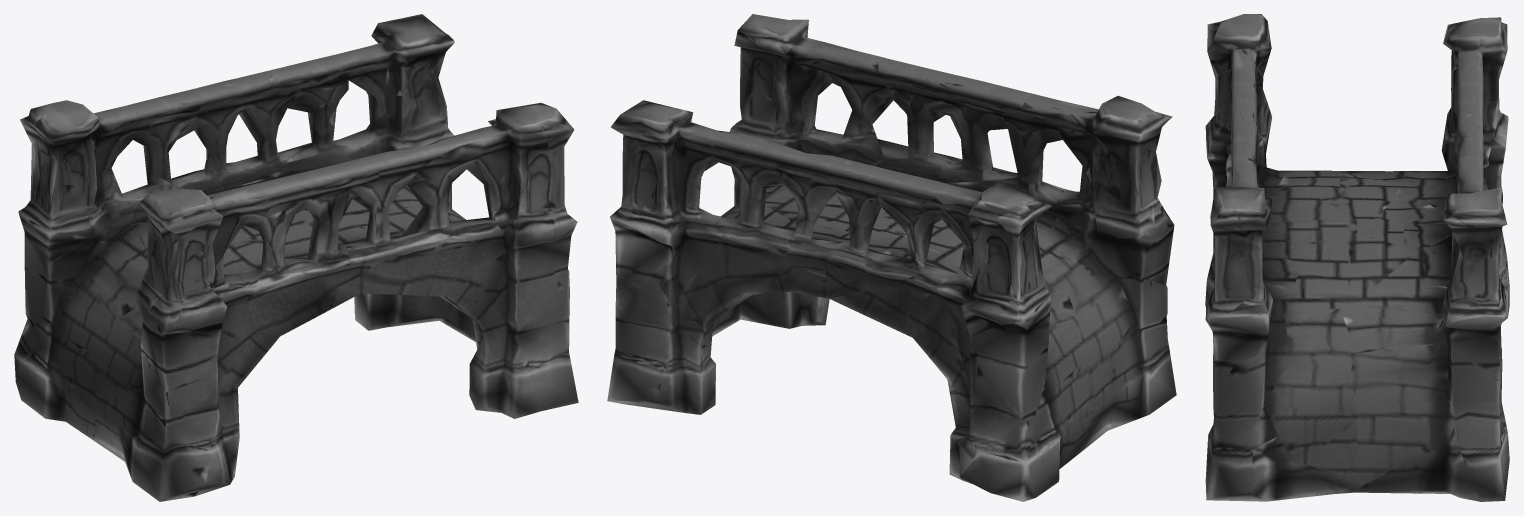
Rendered from stone_bridge.glb.
3 renders of one model, left to right at view 1: azimuth 30°, elevation 25°; view 2: azimuth 150°, elevation 25°; view 3: azimuth 270°, elevation 25°, orthographic.
Size of the model in its own units: 2 by 1.32 by 1.25.
Materials: 1 (1 with a texture image).
